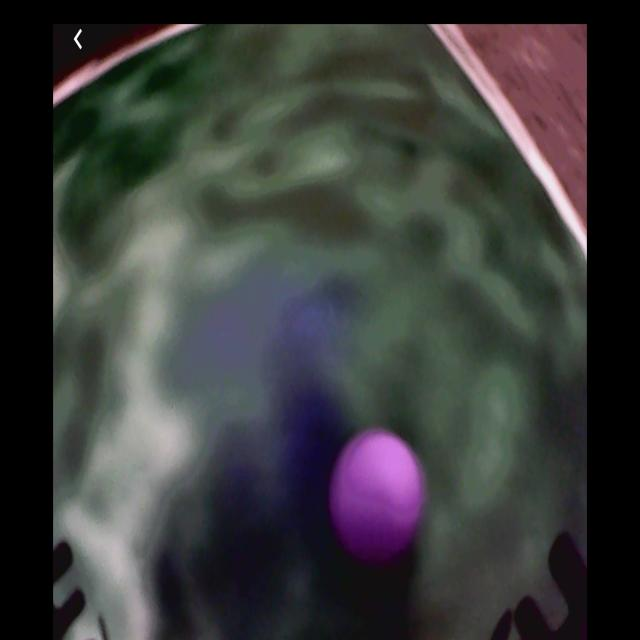ball: (331, 433, 422, 561)
